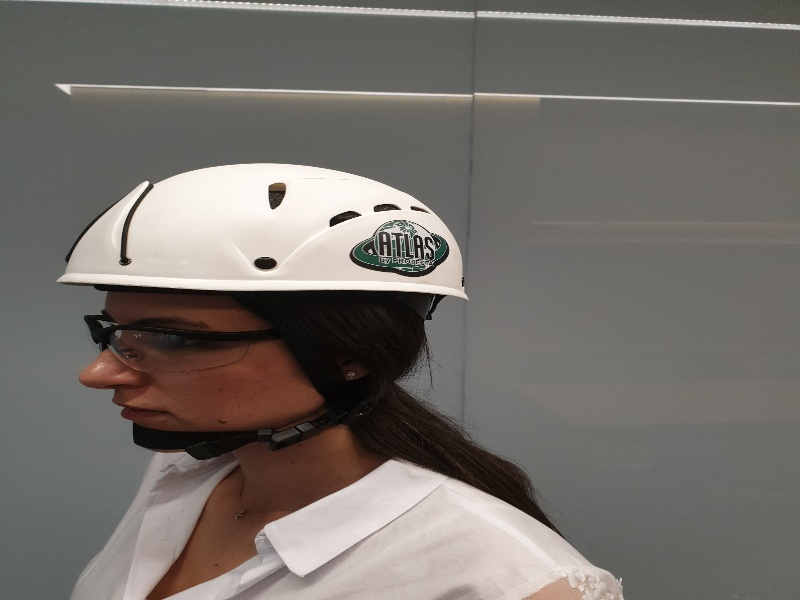Baret: (56, 163, 468, 306)
Gozluk: (81, 315, 342, 374)
